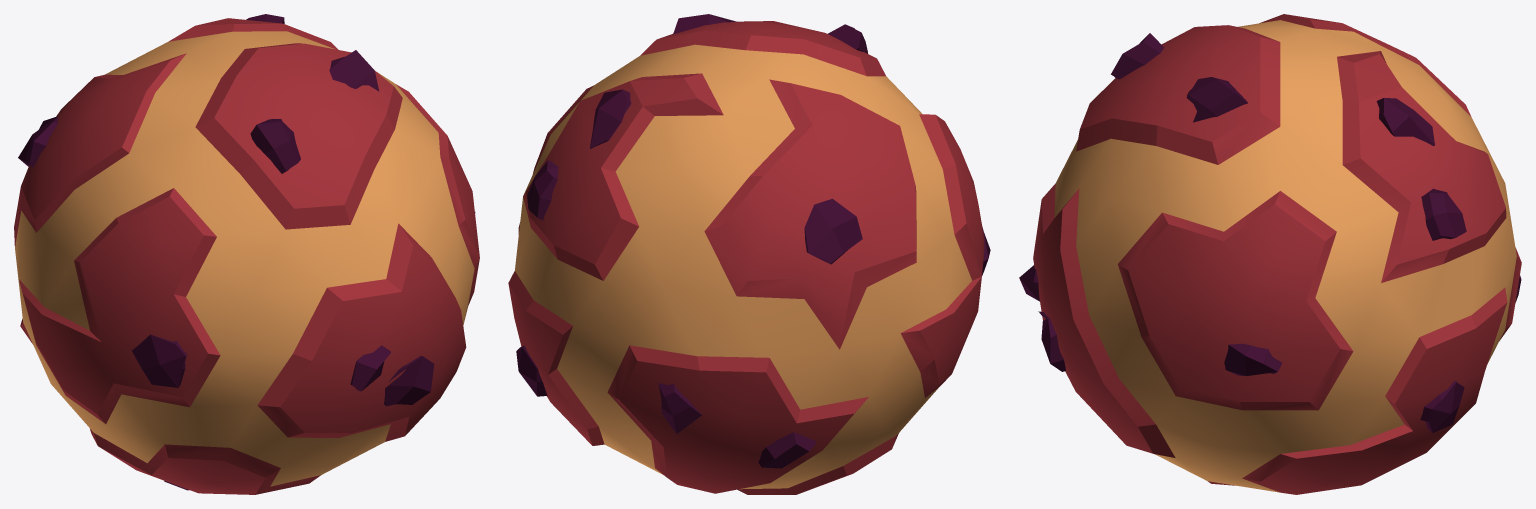
File: fire_planet_1.fbx
The picture shows the model from 3 angles, left to right: view 1: azimuth 30°, elevation 25°; view 2: azimuth 150°, elevation 25°; view 3: azimuth 270°, elevation 25°; orthographic projection. The views are drawn at different scales.
Visible parts, largest first — view 1: Icosphere, Cube.004, Cube.003, Cube.009, Cube.017, Cube.008, Cube.005; view 2: Icosphere, Cube.005, Cube.001, Cube.007, Cube.006, Cube.002, Cube.012, Cube.017, Cube.003; view 3: Icosphere, Cube.017, Cube.002, Cube.001, Cube.010, Cube.012, Cube.003, Cube.009.
Boxes of the visible parts, <box> form: Icosphere: <box>14,18,479,494</box>; Cube.004: <box>132,334,186,387</box>; Cube.003: <box>250,119,300,173</box>; Cube.009: <box>384,355,434,406</box>; Cube.017: <box>329,50,379,91</box>; Cube.008: <box>350,345,390,391</box>; Cube.005: <box>18,116,58,167</box>; Icosphere: <box>508,21,984,494</box>; Cube.005: <box>804,198,862,264</box>; Cube.001: <box>590,89,631,148</box>; Cube.007: <box>758,432,816,468</box>; Cube.006: <box>657,383,701,433</box>; Cube.002: <box>527,160,558,220</box>; Cube.012: <box>516,345,547,396</box>; Cube.017: <box>673,14,737,34</box>; Cube.003: <box>828,24,867,53</box>; Icosphere: <box>1033,14,1521,494</box>; Cube.017: <box>1186,77,1247,122</box>; Cube.002: <box>1421,188,1466,240</box>; Cube.001: <box>1376,98,1434,145</box>; Cube.010: <box>1224,343,1281,375</box>; Cube.012: <box>1420,381,1464,432</box>; Cube.003: <box>1111,33,1164,79</box>; Cube.009: <box>1038,311,1065,371</box>.
Size of the model in its own units: 212 by 206 by 213.
